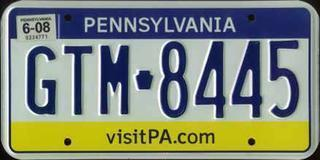placa de veiculo: (7, 0, 315, 160)
